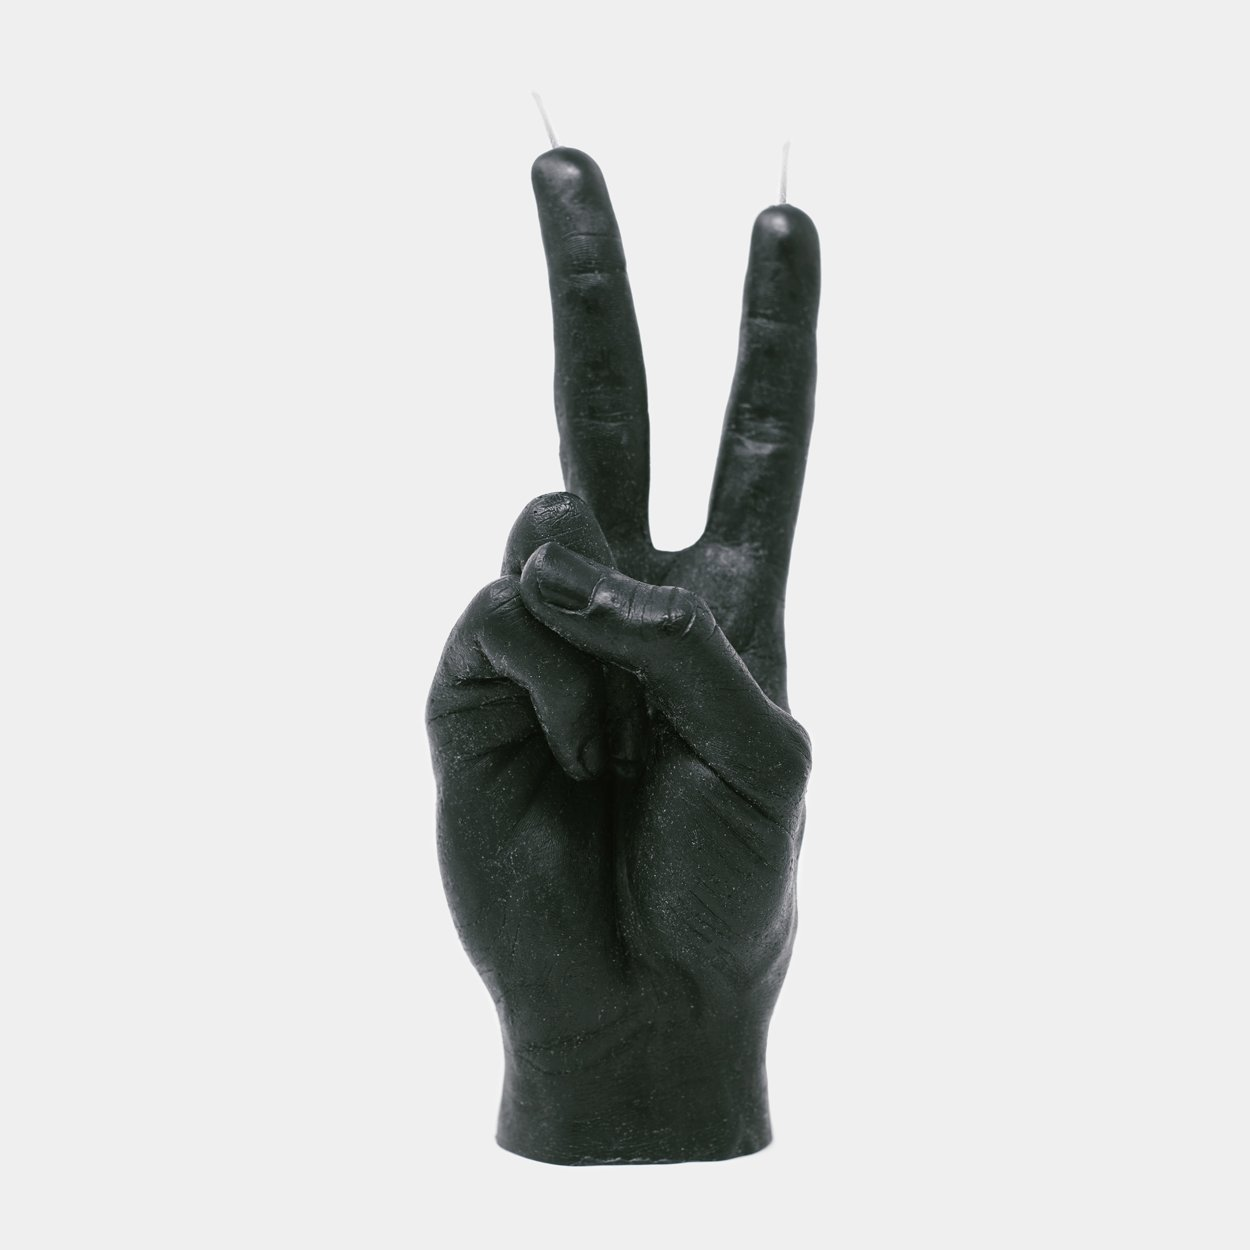peacesign: (509, 139, 862, 641)
